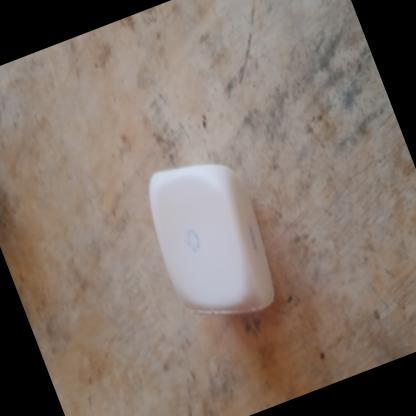Cube: (128, 137, 293, 341)
